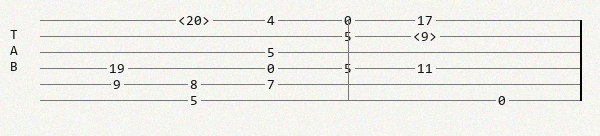0: (267, 62, 279, 75), (344, 14, 356, 27), (498, 94, 510, 107)
11: (417, 62, 437, 75)
17: (417, 14, 437, 27)
19: (109, 62, 129, 75)
4: (267, 14, 279, 27)
5: (190, 94, 202, 107), (267, 46, 279, 59), (344, 30, 356, 43), (344, 62, 356, 75)
7: (267, 78, 279, 91)
8: (190, 78, 202, 91)
9: (113, 78, 125, 91)
harmonic: (178, 14, 214, 27), (413, 30, 441, 43)
